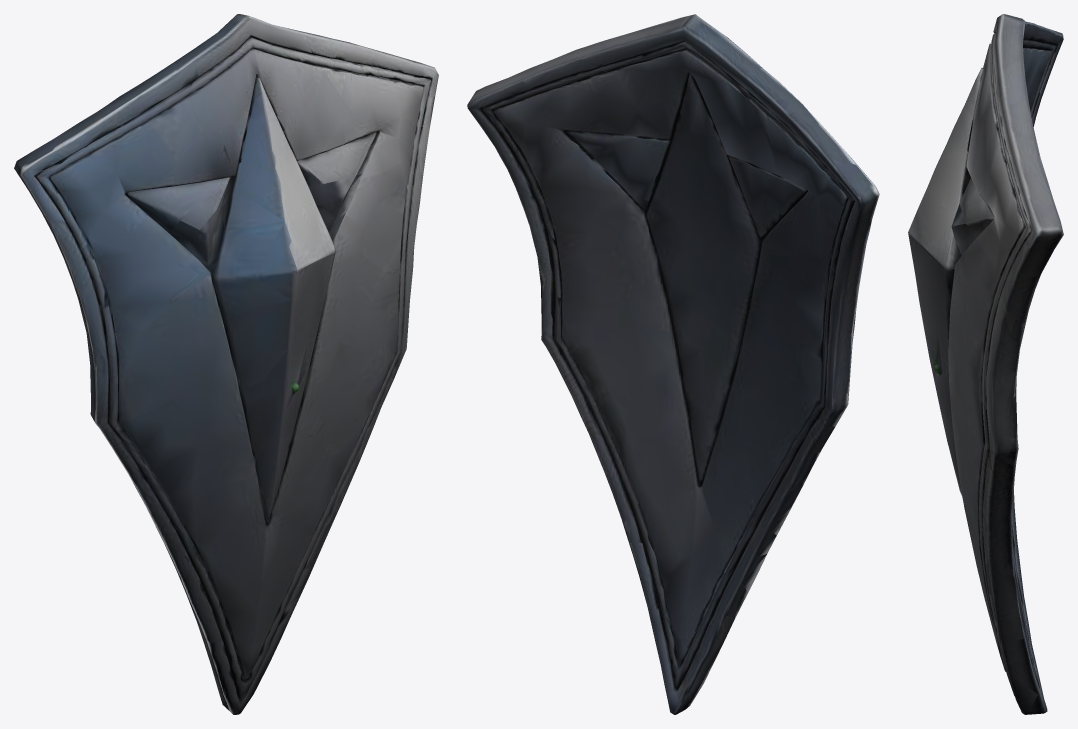
The model's file is escudo-azul-m68.glb.
3 renders of one model, left to right at view 1: azimuth 30°, elevation 25°; view 2: azimuth 150°, elevation 25°; view 3: azimuth 270°, elevation 25°, orthographic. The views are drawn at different scales.
Visible parts, largest first — view 1: escudo-azul; view 2: escudo-azul; view 3: escudo-azul.
Part boxes in pixels (x1,y1,x2,y2): escudo-azul: (14,14,438,714); escudo-azul: (467,14,879,714); escudo-azul: (908,14,1063,714).
Bounding box in the file's own units: 0.6186 × 1 × 0.202.
Materials: 1 (1 with a texture image).
